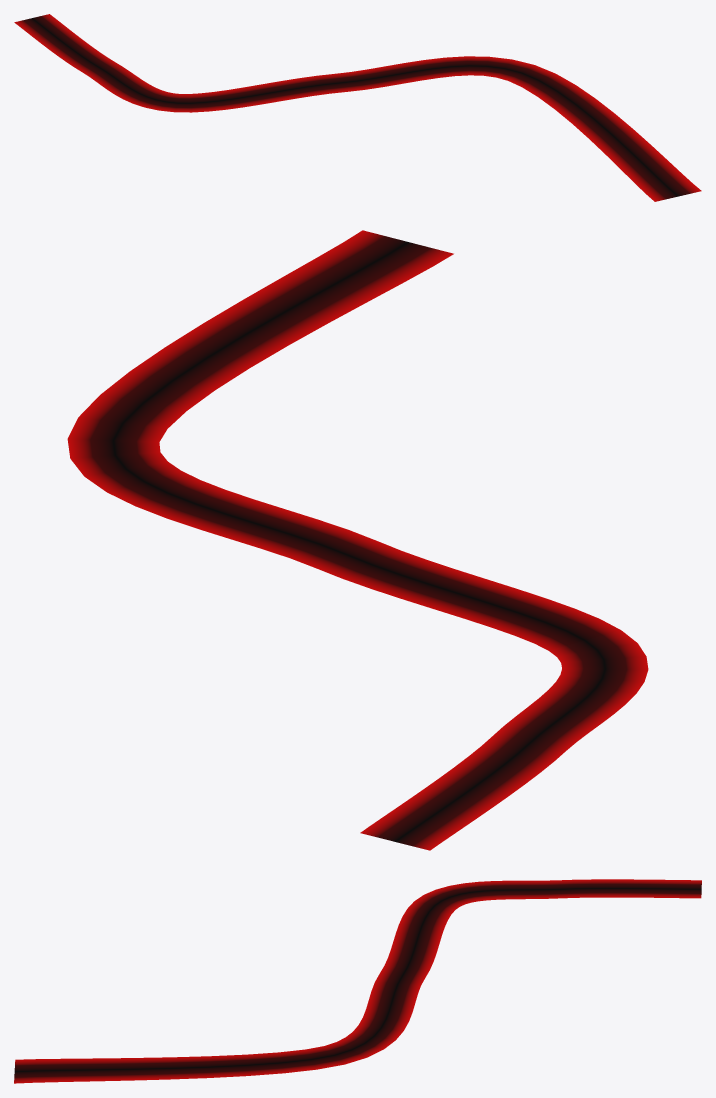
The model's file is CoastalCave_Exit_Runoff.fbx.
3 views of the same model, one above another, from view 1: azimuth 30°, elevation 25°; view 2: azimuth 150°, elevation 25°; view 3: azimuth 270°, elevation 25° (orthographic). The views are drawn at different scales.
Parts seen in each view (by area): view 1: CoastalCave_Exit_Runoff; view 2: CoastalCave_Exit_Runoff; view 3: CoastalCave_Exit_Runoff.
Part boxes in pixels (x1,y1,x2,y2): CoastalCave_Exit_Runoff: (14,14,701,201); CoastalCave_Exit_Runoff: (67,230,648,850); CoastalCave_Exit_Runoff: (14,879,701,1083).
Size of the model in its own units: 7.92 by 0.355 by 12.18.
